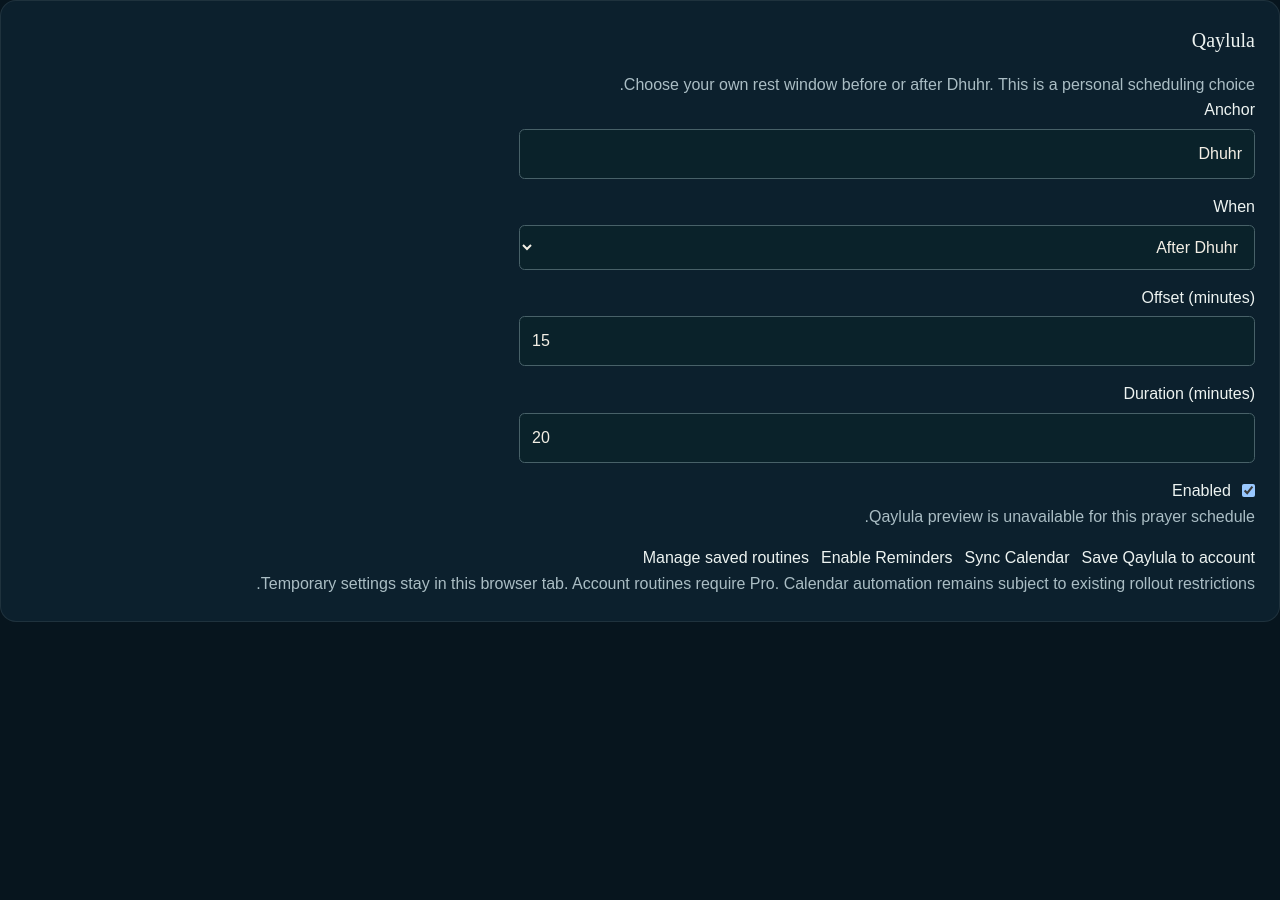
Test: does not choose an arbitrary existing Qaylula to overwrite
Click the button "Save Qaylula to account": (1168, 558) [1082,546,1255,570]
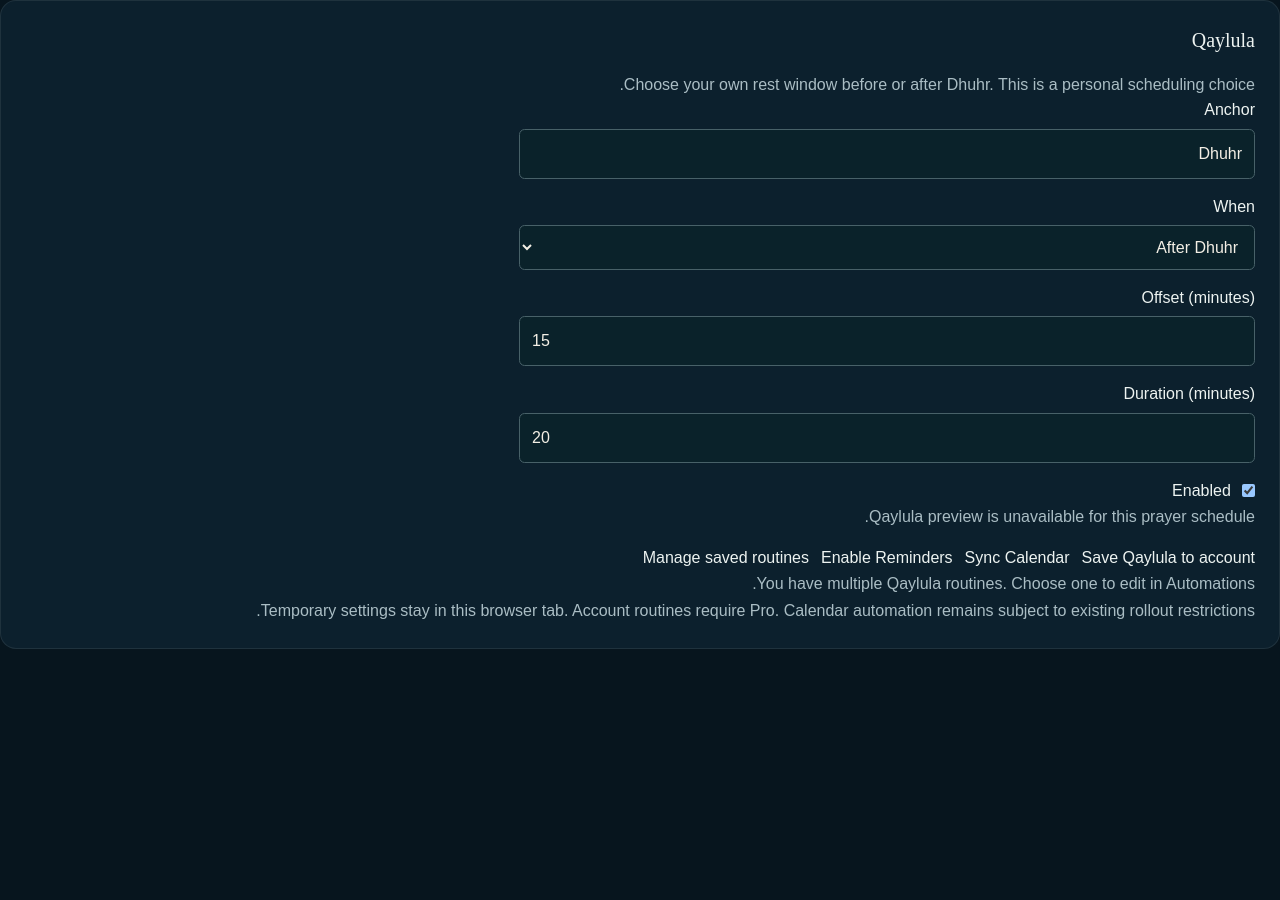
Now the text "You have multiple Qaylula routines. Choose one to edit in Automations." is shown, box [752,575,1255,592]
